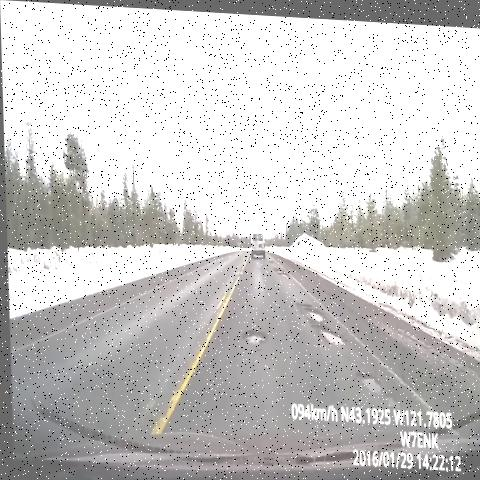pothole: (293, 287, 348, 354), (350, 363, 411, 412), (236, 322, 266, 354), (274, 262, 291, 281), (266, 252, 273, 265)
